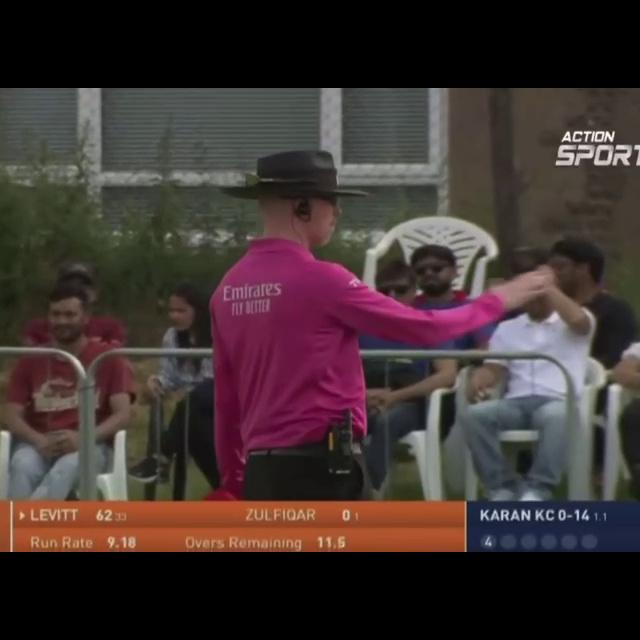umpire: (177, 146, 585, 502)
